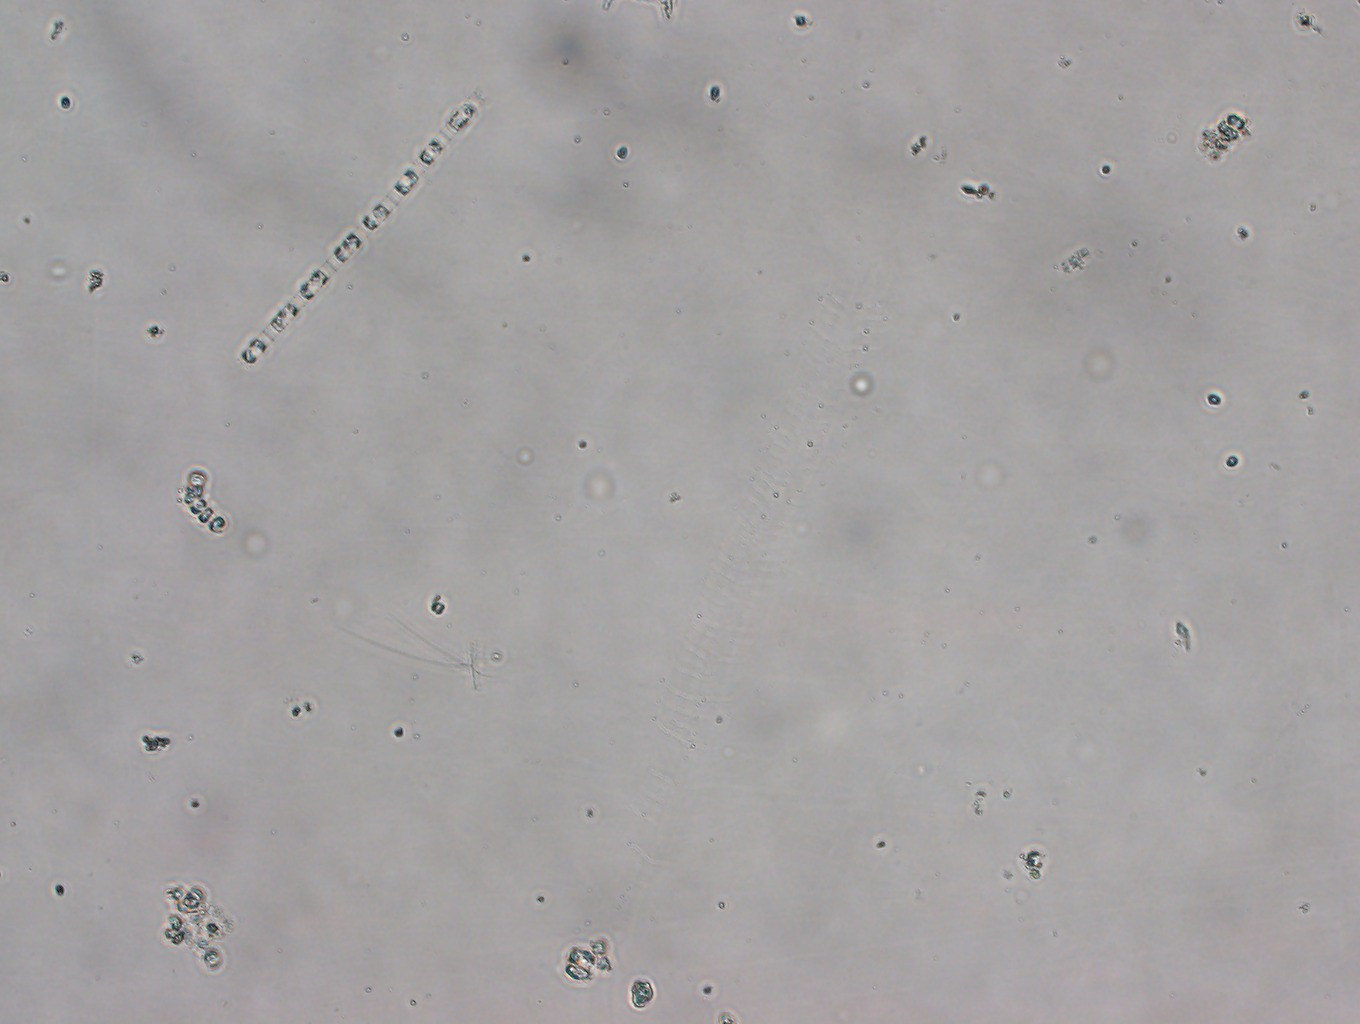skeletonema: (223, 79, 485, 384)
